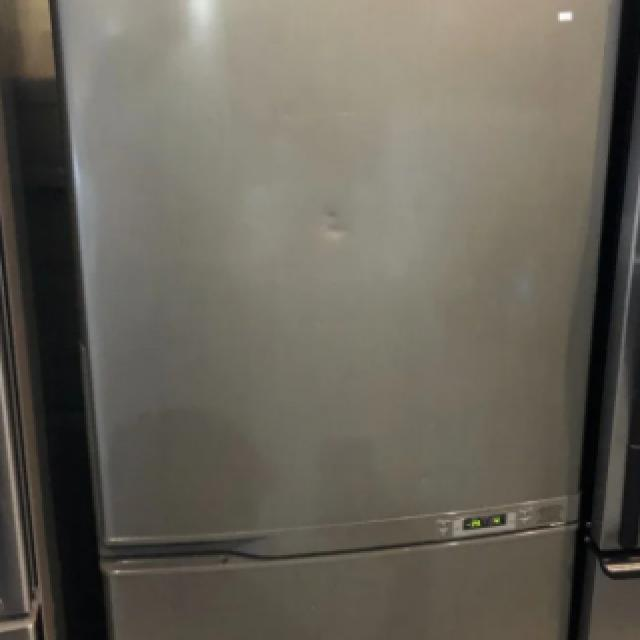dents: (301, 207, 376, 264), (500, 263, 562, 325)
